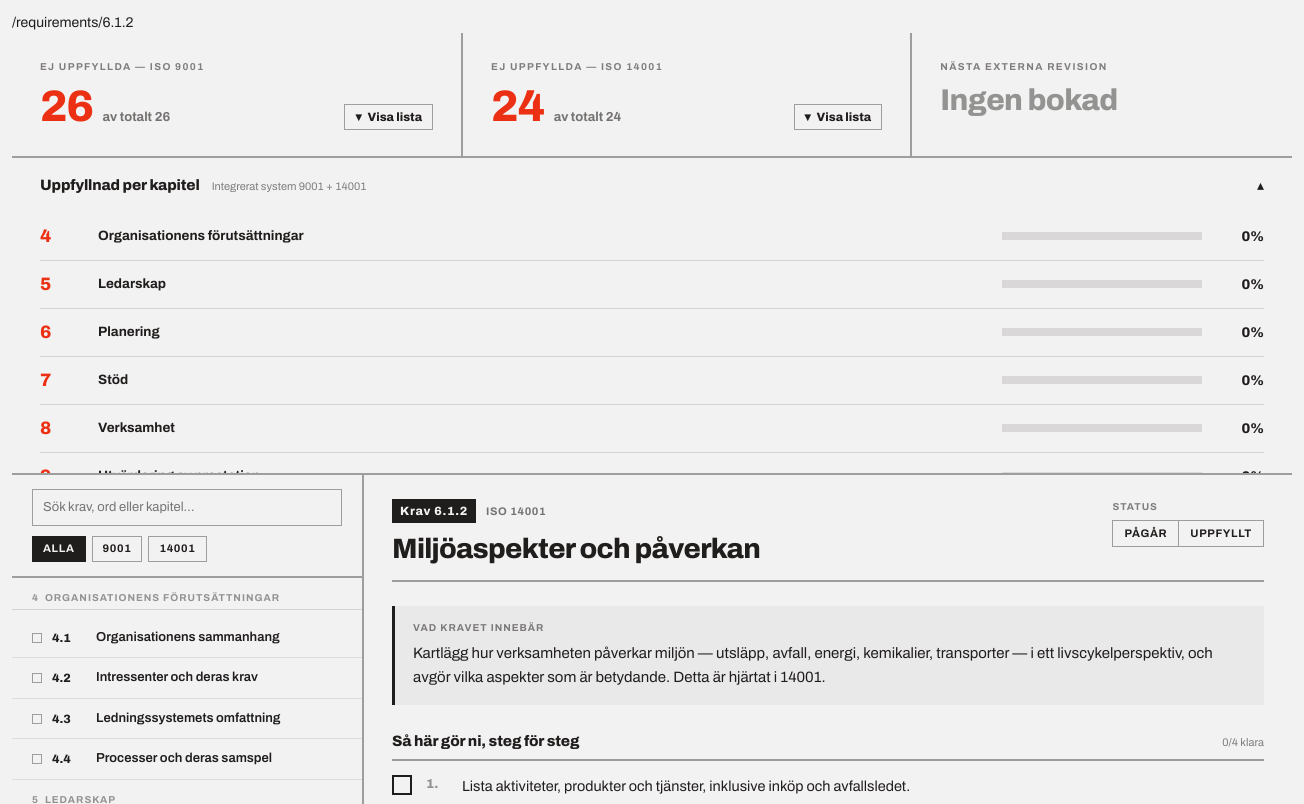
Test: the chapter conformity panel › collapses and expands on its own toggle
Expected: the button "4 Organisationens förutsättningar 0%" is shown, [40,213,1264,261]
Click the button "Uppfyllnad per kapitel Integrerat system 9001 + 14001 ▴" at (120, 185), box [12,158,1292,213]
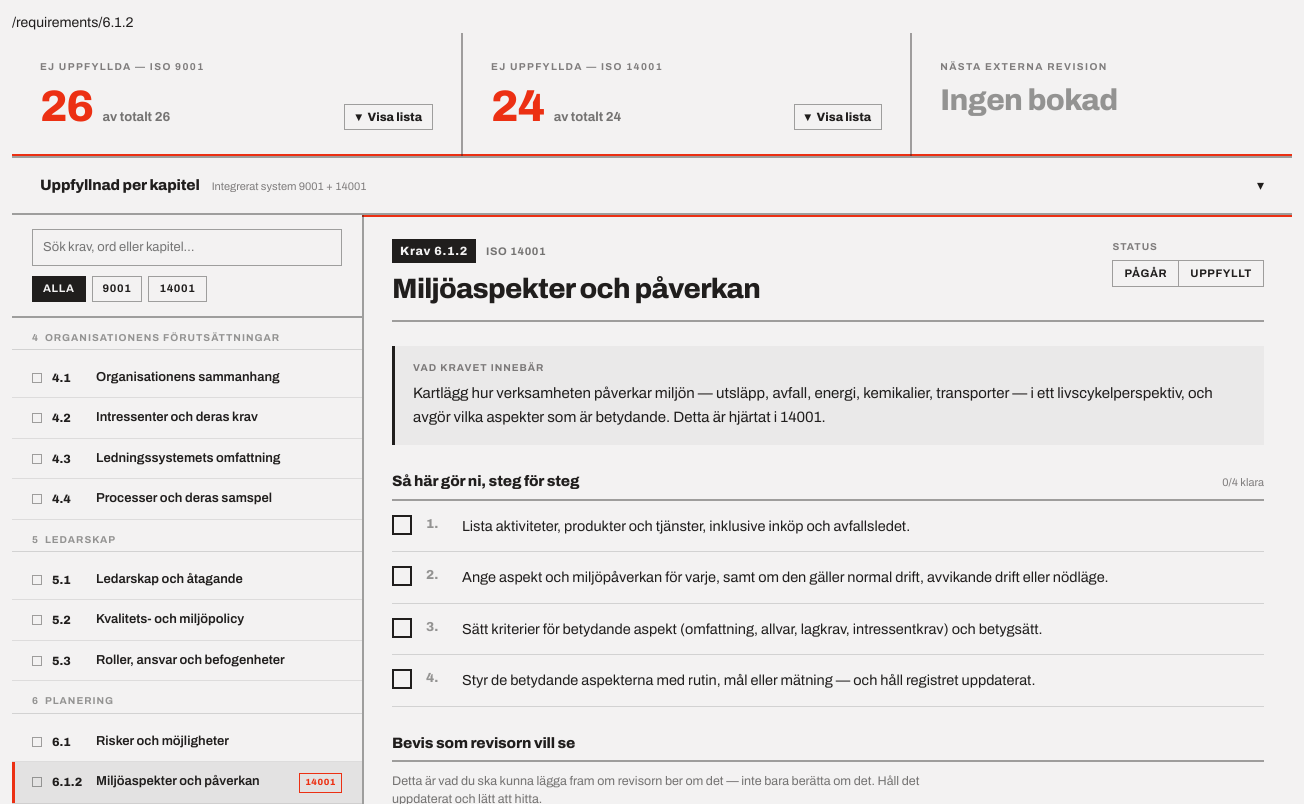
Result: the button "Uppfyllnad per kapitel Integrerat system 9001 + 14001 ▾" is collapsed
Result: no buttons "%" are shown
Click the button "Uppfyllnad per kapitel Integrerat system 9001 + 14001 ▾" at (120, 185), box [12,158,1292,213]
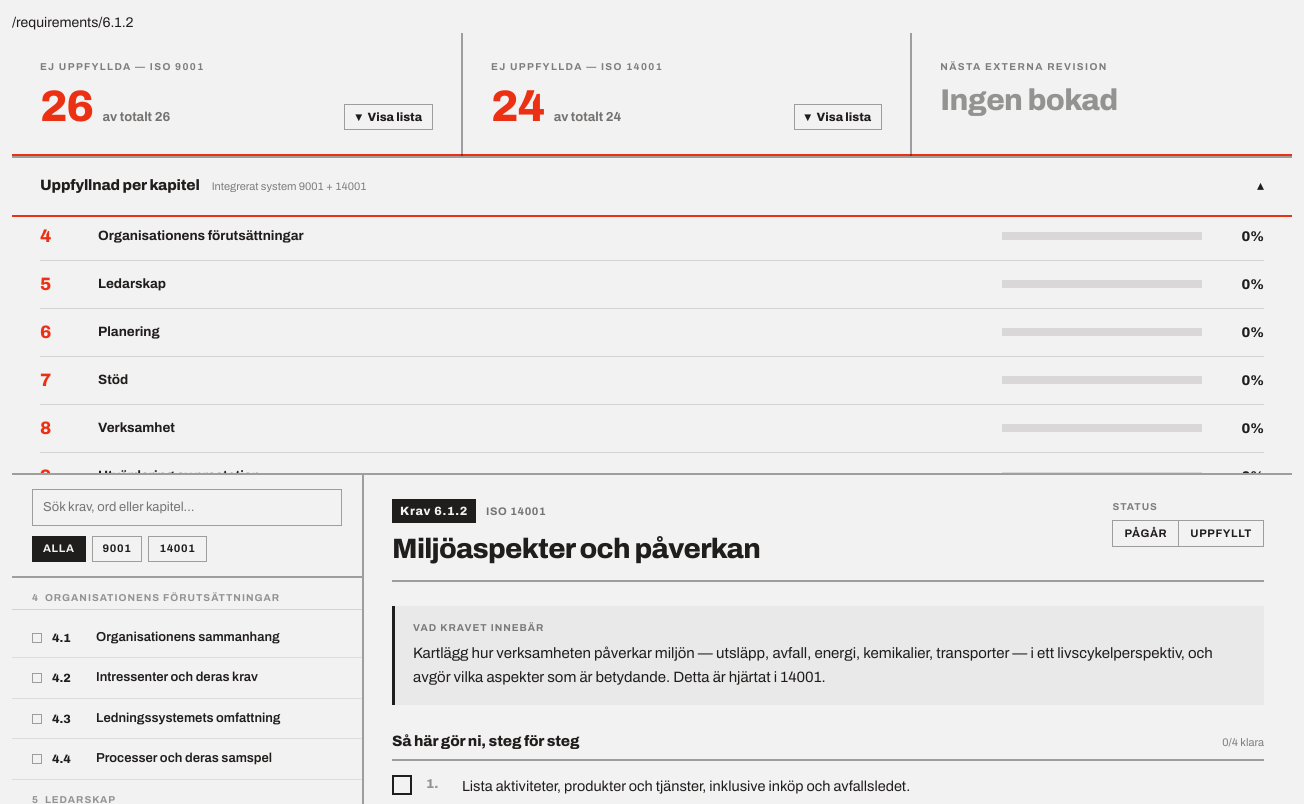
Result: the button "Uppfyllnad per kapitel Integrerat system 9001 + 14001 ▴" is expanded at [12,158,1292,213]
Result: the button "4 Organisationens förutsättningar 0%" is shown at [40,213,1264,261]
